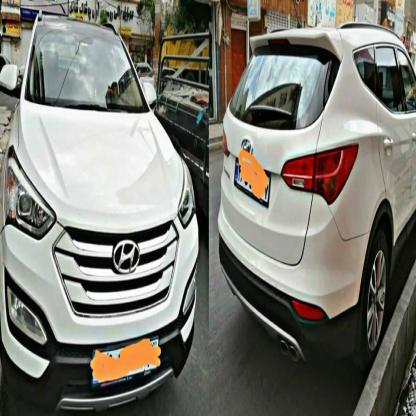Car: (0, 9, 201, 407), (221, 0, 416, 369)
